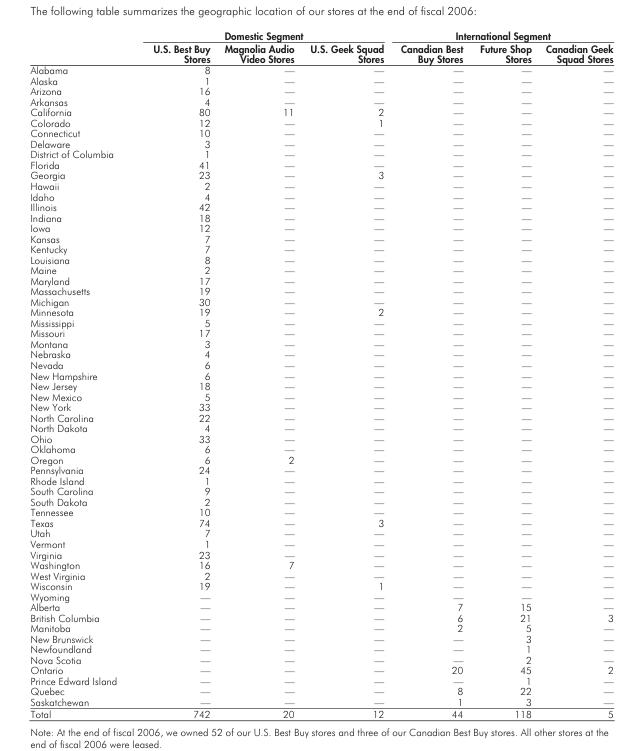table: (29, 28, 612, 719)
table column: (29, 28, 134, 719), (301, 28, 391, 719), (216, 28, 301, 719), (134, 28, 216, 719), (391, 28, 470, 719), (537, 28, 612, 719), (470, 28, 537, 719)
table column header: (29, 28, 612, 64)
table row: (29, 41, 612, 64), (29, 28, 612, 41), (29, 695, 612, 707), (29, 707, 612, 719), (29, 74, 612, 85), (29, 95, 612, 106), (29, 116, 612, 127), (29, 127, 612, 138), (29, 148, 612, 159), (29, 169, 612, 180), (29, 190, 612, 201), (29, 211, 612, 222), (29, 232, 612, 243), (29, 253, 612, 264), (29, 274, 612, 285), (29, 295, 612, 306), (29, 306, 612, 317), (29, 327, 612, 338), (29, 348, 612, 359), (29, 369, 612, 380), (29, 390, 612, 401), (29, 411, 612, 422), (29, 432, 612, 443), (29, 453, 612, 464), (29, 474, 612, 485), (29, 495, 612, 506), (29, 506, 612, 517), (29, 527, 612, 538), (29, 548, 612, 559), (29, 569, 612, 580), (29, 590, 612, 601), (29, 611, 612, 622), (29, 632, 612, 643), (29, 653, 612, 664), (29, 674, 612, 685), (29, 64, 612, 74), (29, 85, 612, 95), (29, 106, 612, 116), (29, 138, 612, 148), (29, 159, 612, 169), (29, 180, 612, 190), (29, 201, 612, 211), (29, 222, 612, 232), (29, 243, 612, 253), (29, 264, 612, 274), (29, 285, 612, 295), (29, 317, 612, 327), (29, 338, 612, 348), (29, 359, 612, 369), (29, 380, 612, 390), (29, 401, 612, 411), (29, 422, 612, 432), (29, 443, 612, 453), (29, 464, 612, 474), (29, 485, 612, 495), (29, 517, 612, 527), (29, 538, 612, 548), (29, 559, 612, 569), (29, 580, 612, 590), (29, 601, 612, 611), (29, 622, 612, 632), (29, 643, 612, 653), (29, 664, 612, 674), (29, 685, 612, 695)
table spanning cell: (134, 28, 391, 41), (391, 28, 612, 41)
